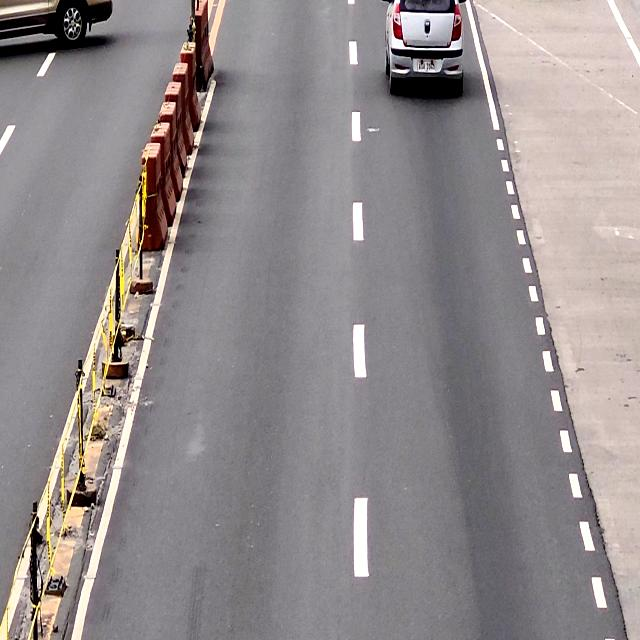Car: (385, 0, 466, 95)
License-Plate: (418, 60, 437, 73)
